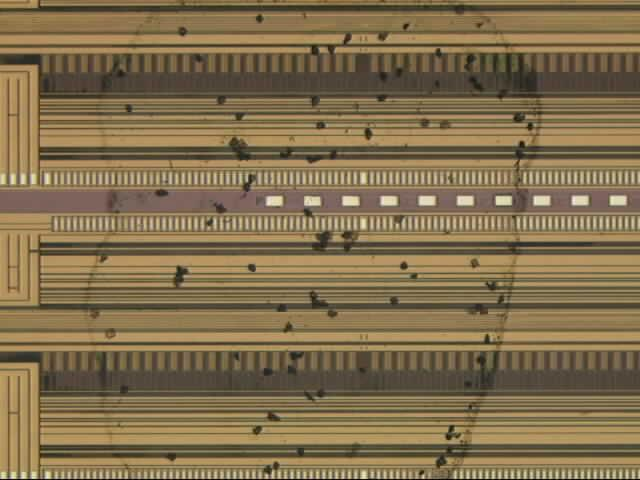PO CONTAMINATION: (89, 1, 543, 480)
